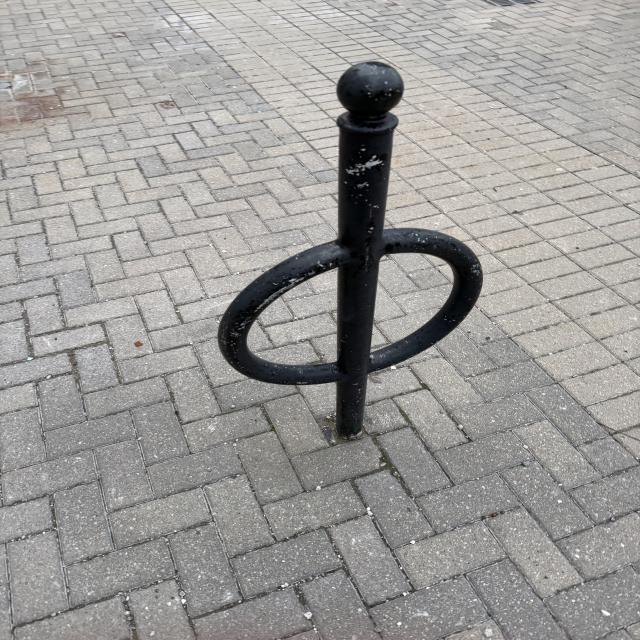Bicycle Rack: (221, 62, 484, 430)
